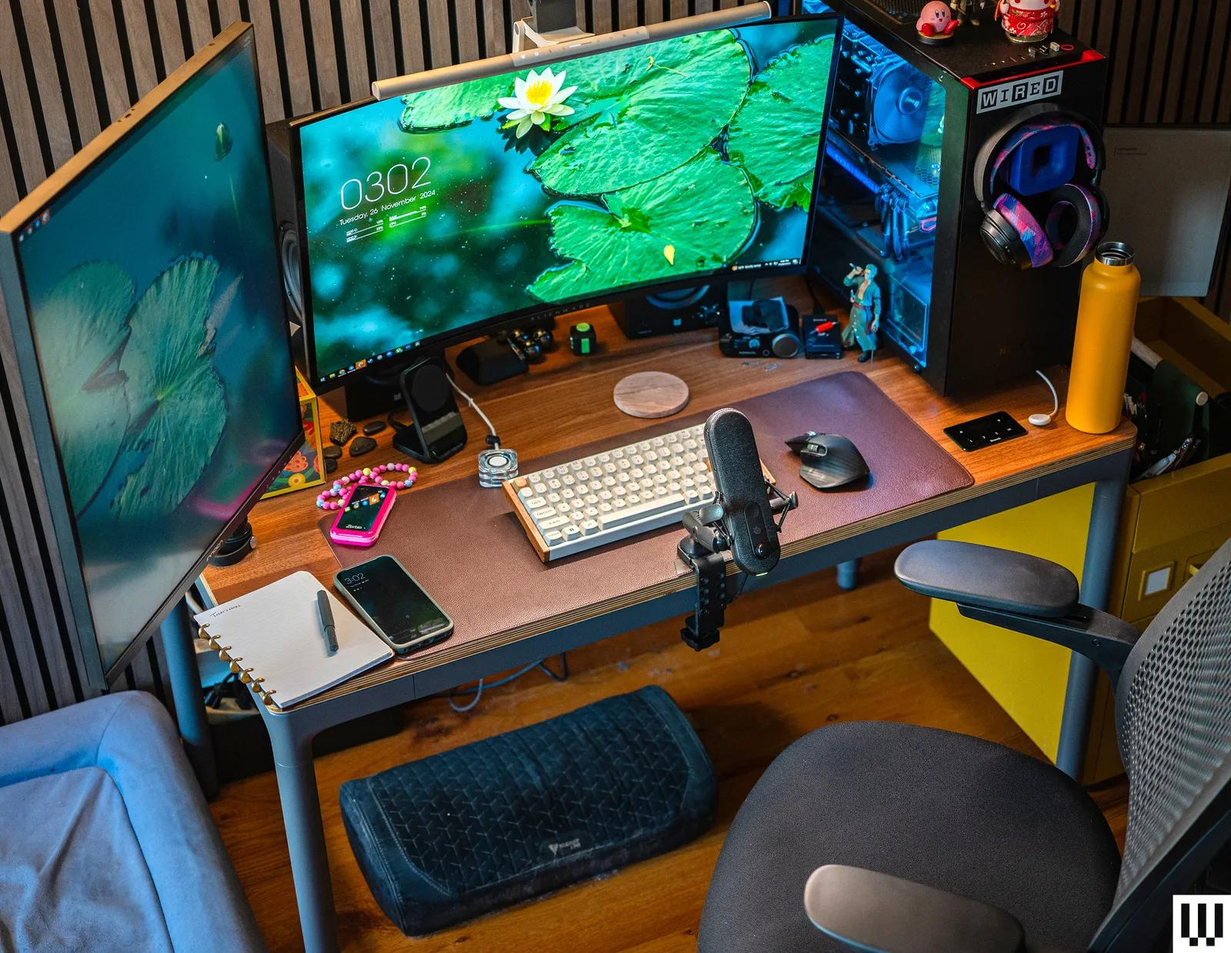head_phone: (964, 87, 1136, 292)
keyboard: (474, 401, 801, 575)
mic: (688, 396, 806, 598)
mobile_phone: (326, 551, 467, 662), (314, 473, 416, 554)
monitor: (278, 0, 850, 413), (0, 3, 317, 708)
mouse: (776, 418, 892, 505)
pc: (755, 0, 1103, 414)
speaker: (472, 443, 524, 492)
